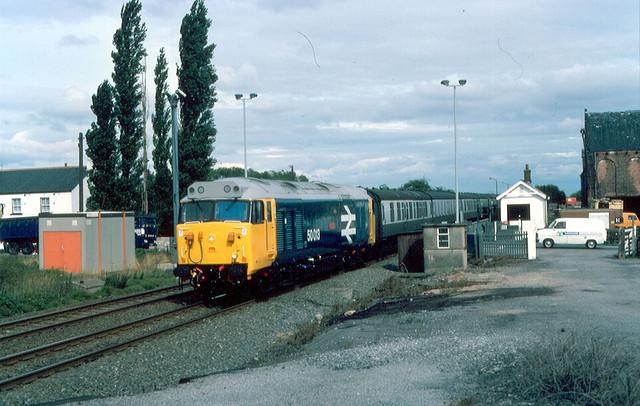Train: (172, 178, 501, 308)
